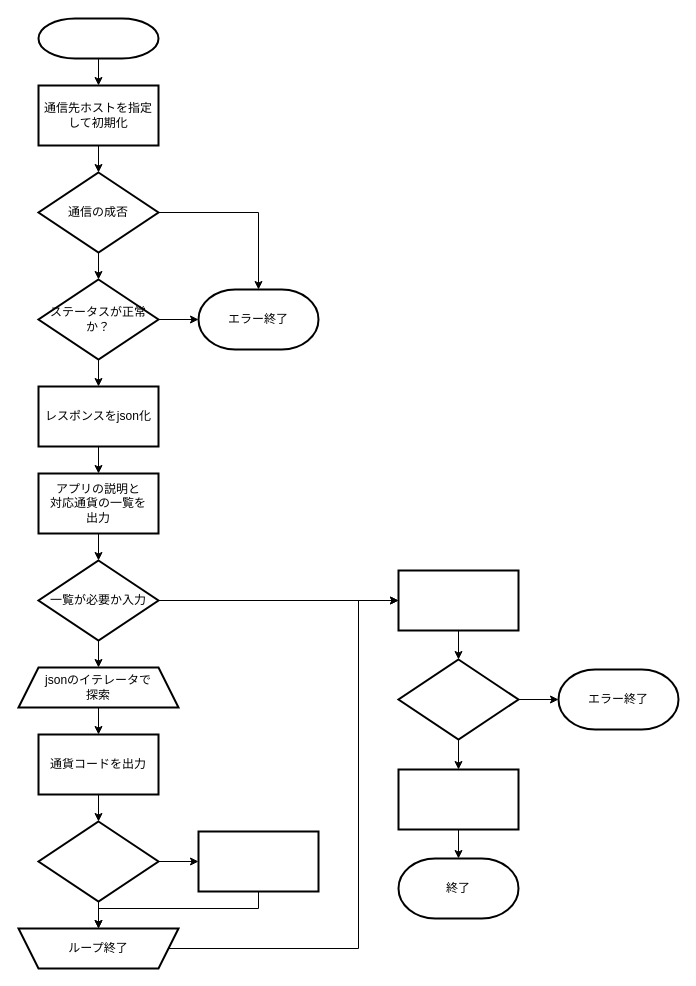
Some shapes in this 696 by 986 pixel diagram are drawn without their labels. Here are the shapes that lost their labels. From the top down, the box of each, then its label:
(37, 17, 159, 59): 開始
(397, 569, 519, 631): 通貨コードのペアと金額を入力
(397, 658, 519, 740): 入力された 通貨コードが 対応しているか？
(397, 768, 519, 830): 米国ドルを媒介に通貨のレートを計算 出力
(37, 820, 159, 902): 改行後に 10回出力したか？
(197, 830, 319, 892): 改行
